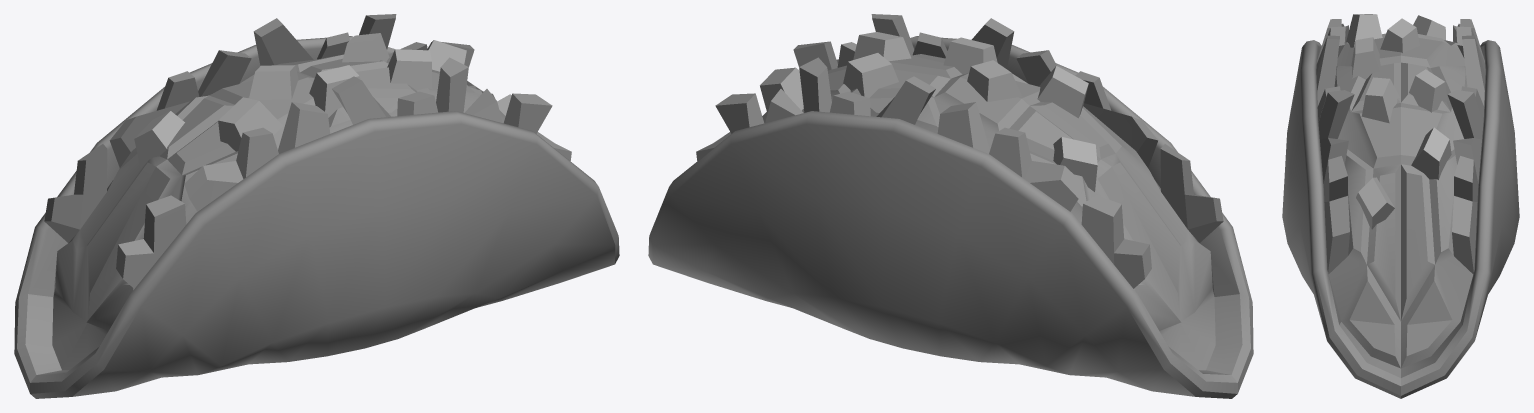
File: mesh_GiantTaco.fbx
3 renders of one model, left to right at view 1: azimuth 30°, elevation 25°; view 2: azimuth 150°, elevation 25°; view 3: azimuth 270°, elevation 25°, orthographic. The views are drawn at different scales.
Parts seen in each view (by area): view 1: mesh_GiantTaco; view 2: mesh_GiantTaco; view 3: mesh_GiantTaco.
Boxes of the visible parts, left/top/right/bottom form: mesh_GiantTaco: left=14, top=14, right=619, bottom=398; mesh_GiantTaco: left=648, top=14, right=1253, bottom=398; mesh_GiantTaco: left=1282, top=14, right=1519, bottom=398.
Bounding box in the file's own units: 1000 × 476 × 414.
